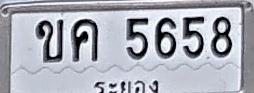5: (126, 17, 148, 59), (182, 16, 204, 58)
6: (155, 17, 176, 58)
8: (211, 16, 232, 57)
A02: (35, 19, 64, 62)
A04: (72, 18, 99, 62)
RYG: (91, 77, 161, 93)
